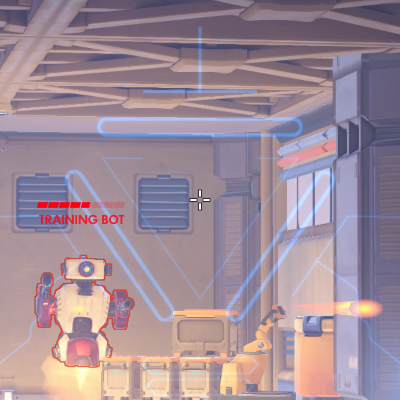hpbar: (36, 202, 125, 208)
